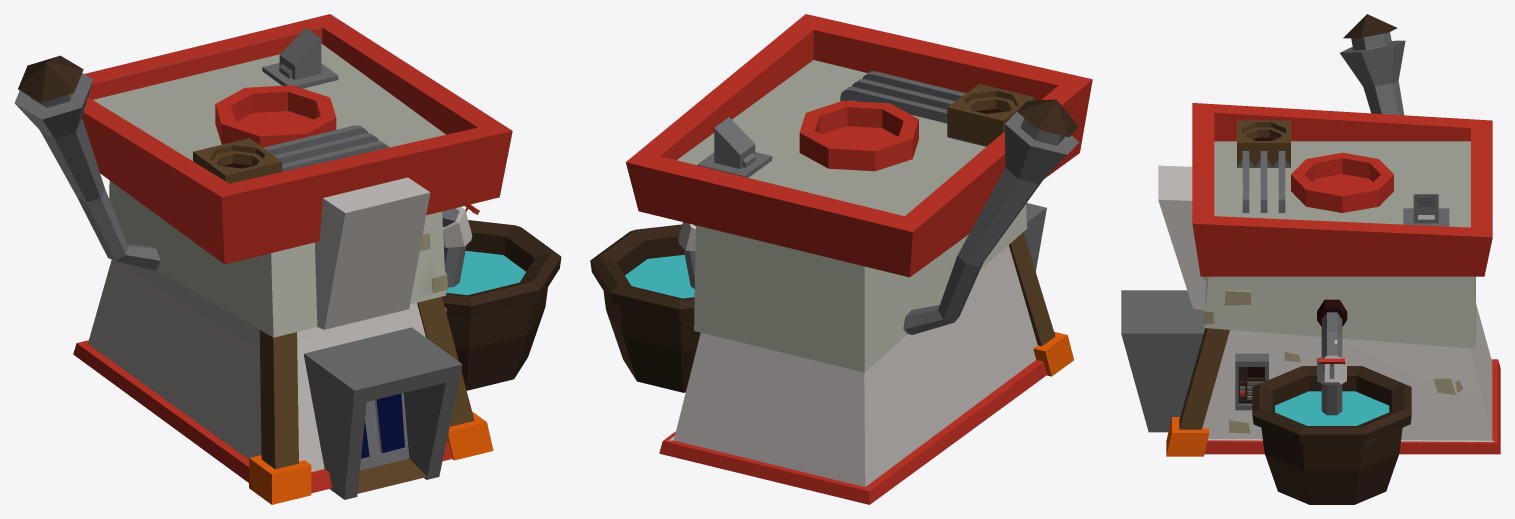
3 renders of one model, left to right at view 1: azimuth 30°, elevation 25°; view 2: azimuth 150°, elevation 25°; view 3: azimuth 270°, elevation 25°, orthographic. The views are drawn at different scales.
Visible parts, largest first — view 1: 柱体.012; view 2: 柱体.012; view 3: 柱体.012.
Part boxes in pixels (x1,y1,x2,y2): 柱体.012: (14, 14, 561, 504); 柱体.012: (590, 14, 1092, 504); 柱体.012: (1121, 14, 1500, 504).
Bounding box in the file's own units: 228 × 168 × 184.
